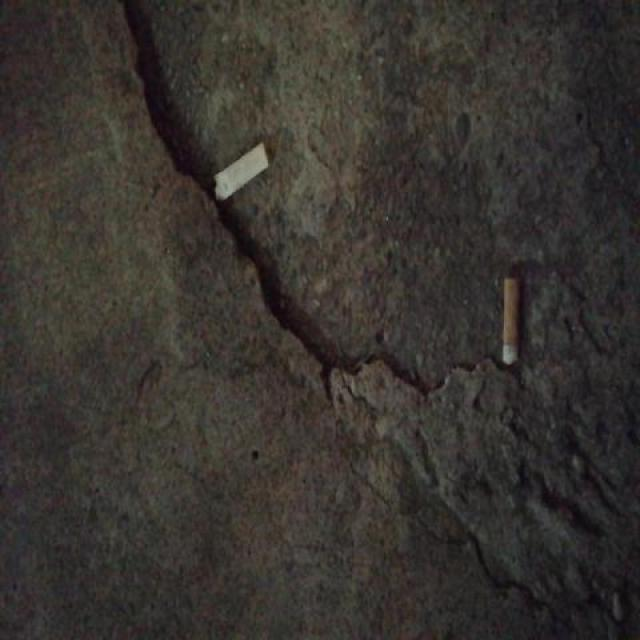non-organic waste: (210, 138, 274, 207), (499, 273, 525, 370)
